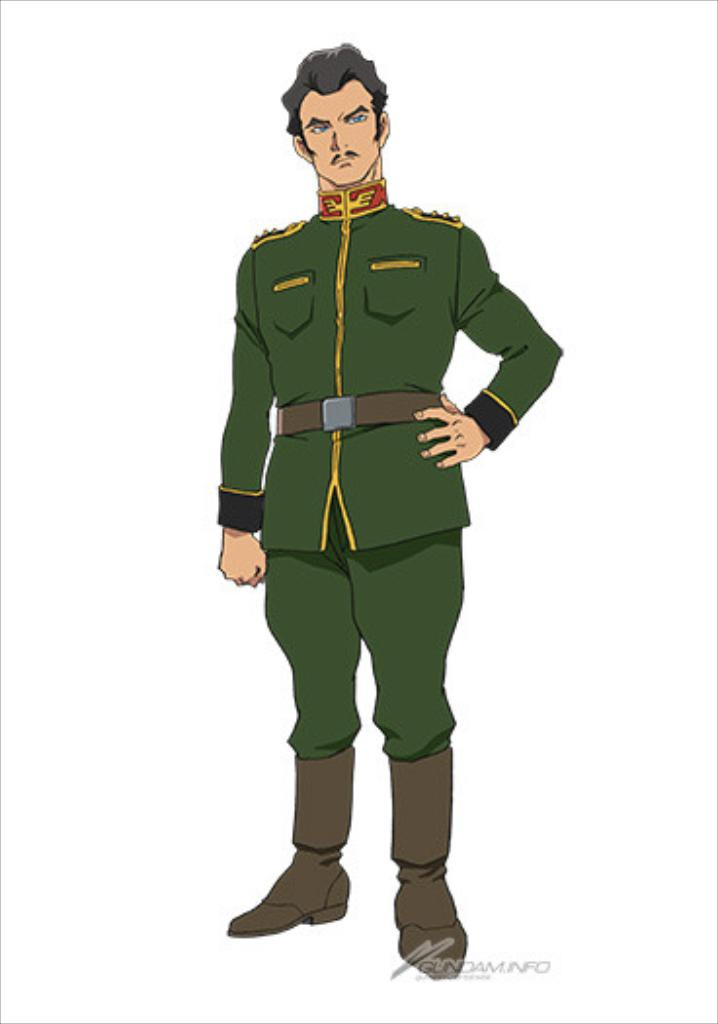Person: (218, 41, 562, 979)
